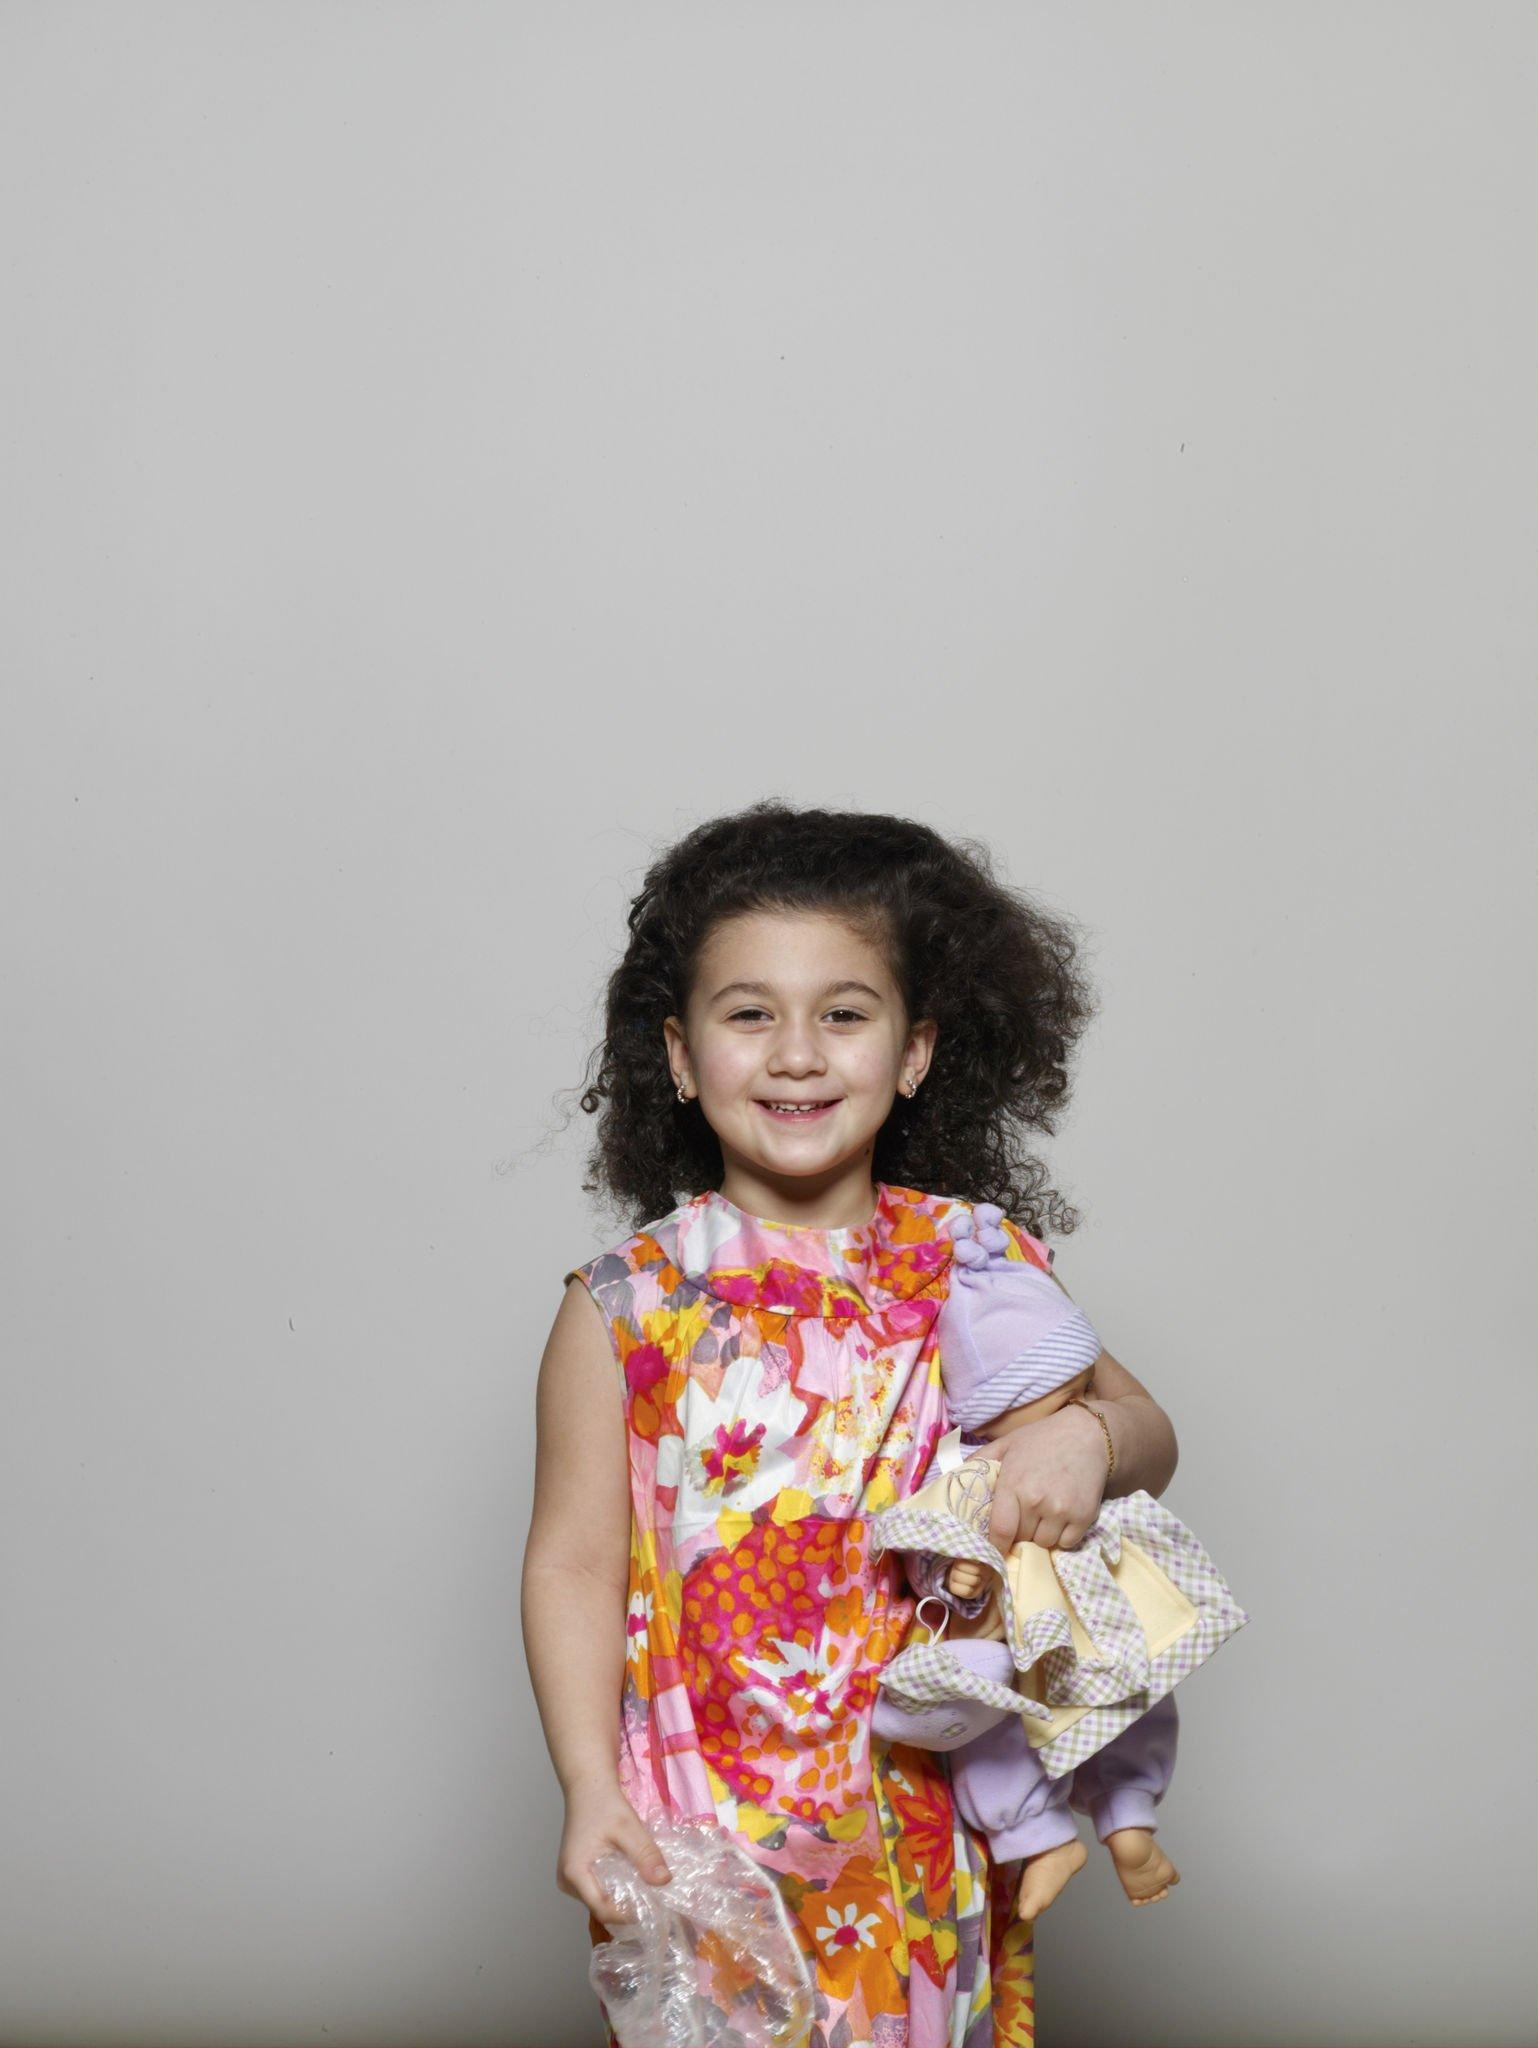Healthy: (641, 872, 937, 1186)
